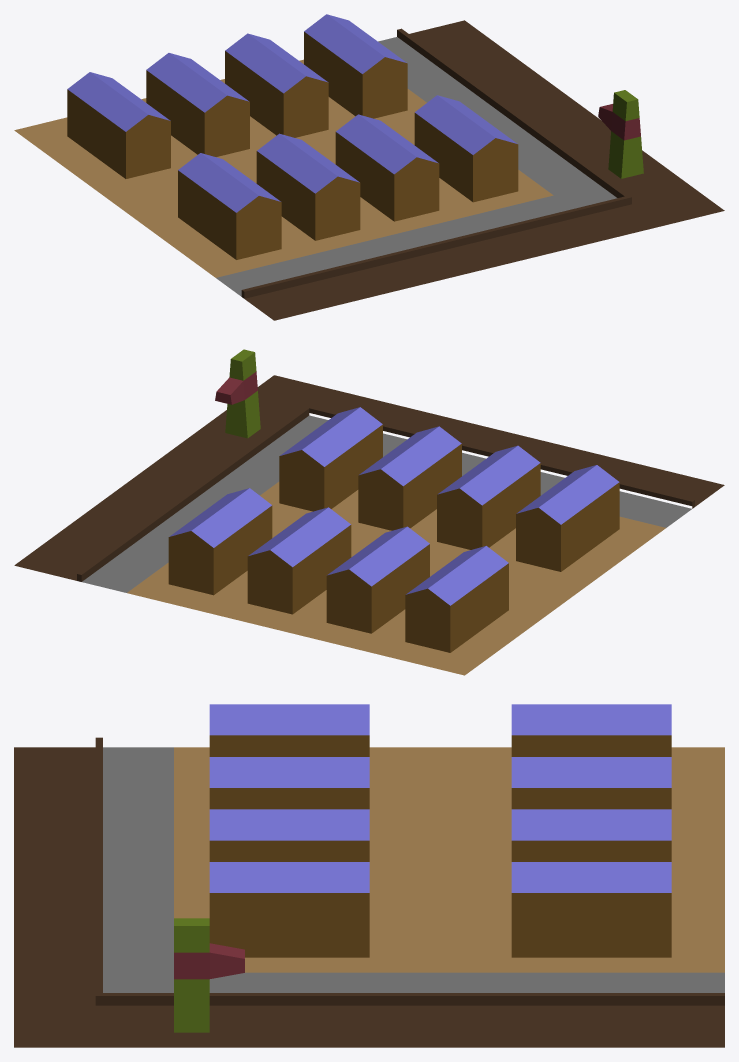
The model's file is barracks.glb.
3 views of the same model, one above another, from view 1: azimuth 30°, elevation 25°; view 2: azimuth 150°, elevation 25°; view 3: azimuth 270°, elevation 25° (orthographic). The views are drawn at different scales.
Parts seen in each view (by area): view 1: Cube; view 2: Cube; view 3: Cube.
Part boxes in pixels (left/top/right/bottom): Cube: left=14, top=14, right=724, bottom=320; Cube: left=14, top=349, right=724, bottom=675; Cube: left=14, top=704, right=724, bottom=1047.
Size of the model in its own units: 0.1 by 0.016 by 0.1.
